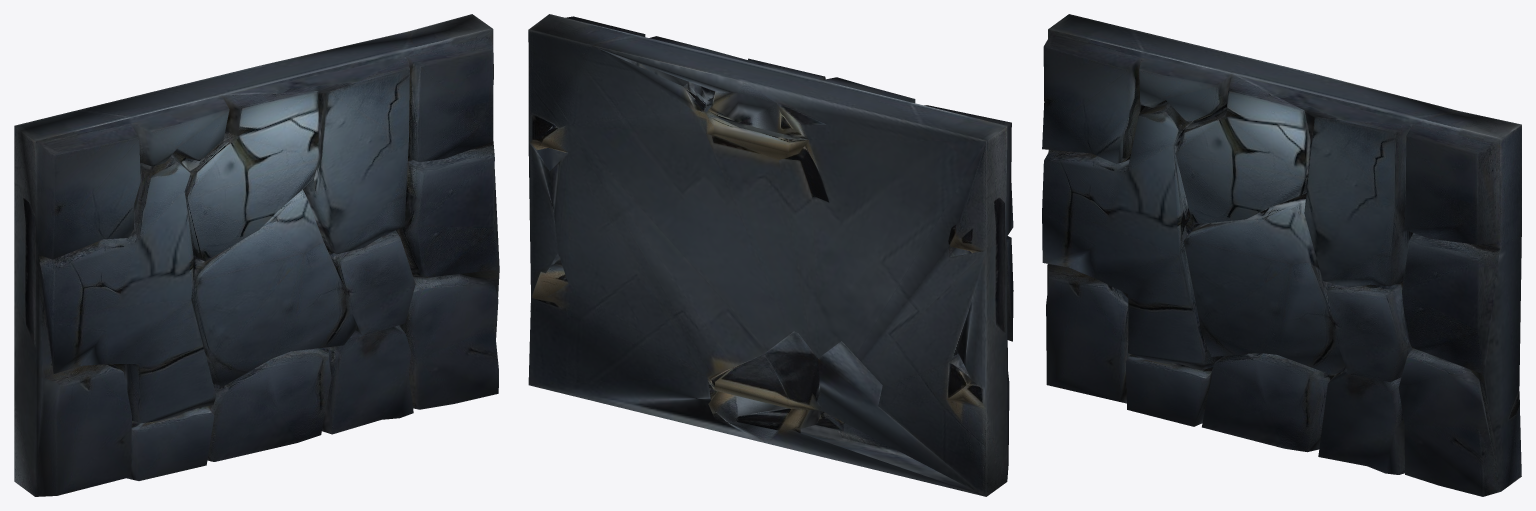
Rendered from prop-den-floor-a.glb.
3 views of the same model, side by side, from view 1: azimuth 30°, elevation 25°; view 2: azimuth 150°, elevation 25°; view 3: azimuth 330°, elevation 25° (orthographic).
Bounding box in the file's own units: 2 × 1.49 × 0.2932.
1 material, 1 textured.
